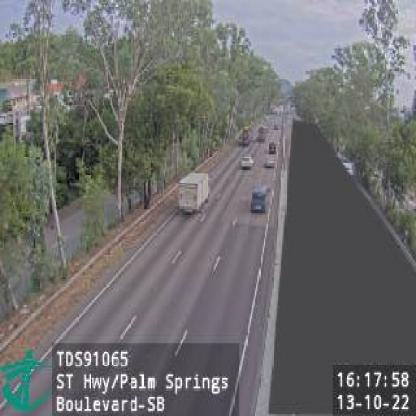Car: (252, 188, 269, 213), (241, 154, 254, 170), (264, 156, 274, 168)
Truck: (178, 171, 209, 216)
